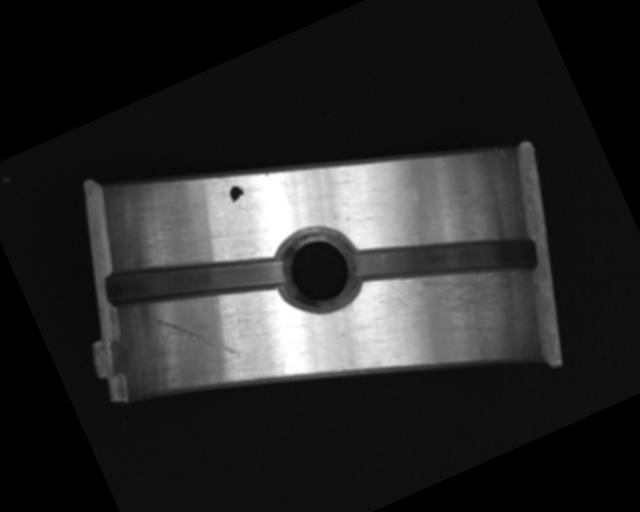blot: (226, 182, 248, 208)
gap: (347, 184, 541, 335), (98, 210, 289, 354)
hole: (264, 214, 371, 325)
nick: (151, 292, 241, 384)
scratch: (371, 232, 539, 372)
